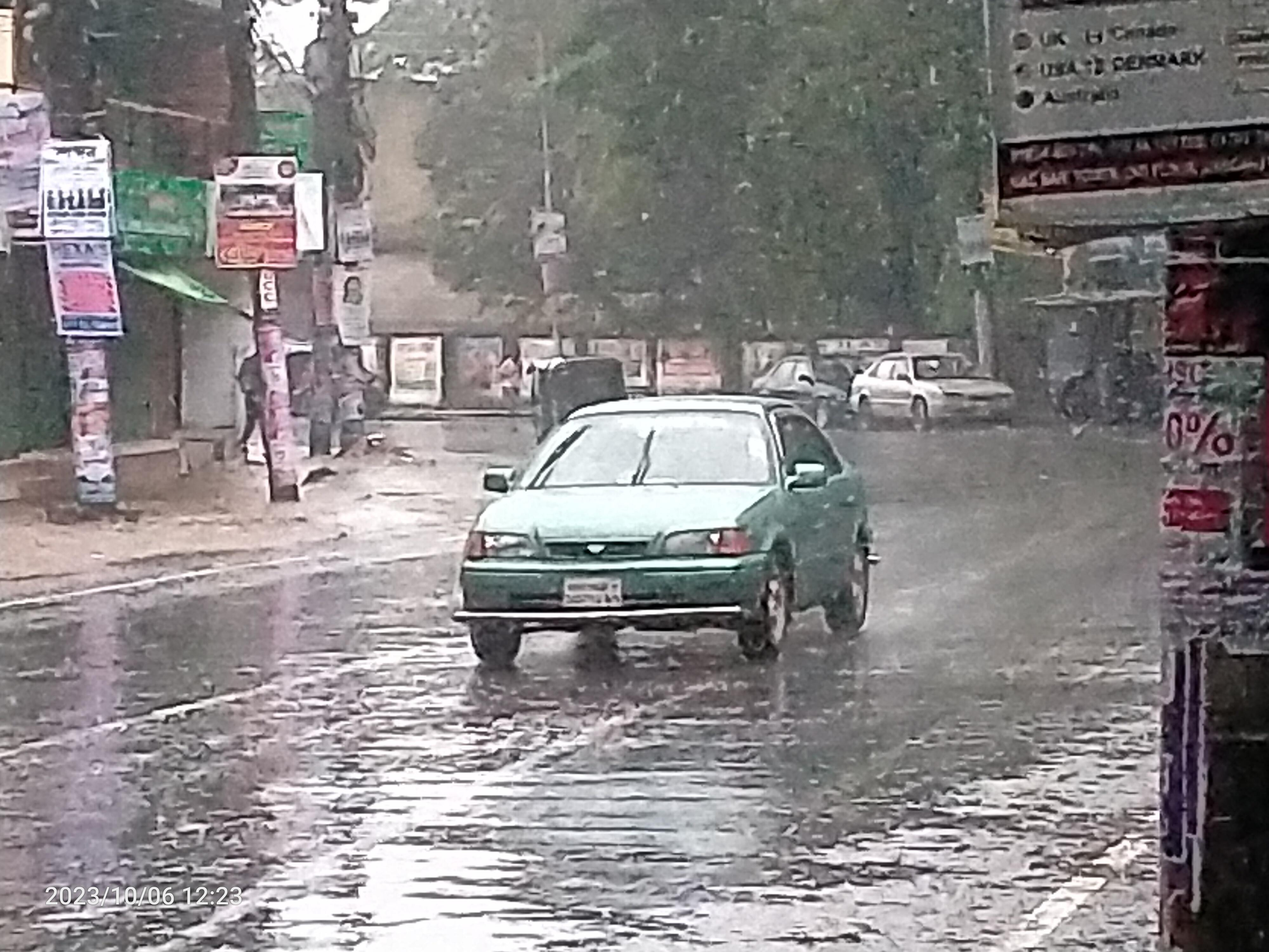Car: (428, 385, 898, 680), (841, 334, 1023, 435), (746, 347, 851, 406)
